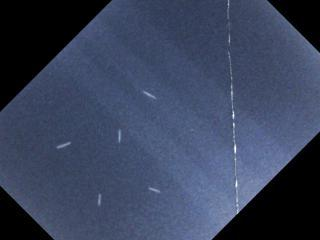crack: (226, 0, 241, 215)
scratch: (52, 137, 72, 154), (113, 126, 126, 146), (140, 86, 155, 102), (145, 183, 162, 196), (94, 192, 105, 207)
